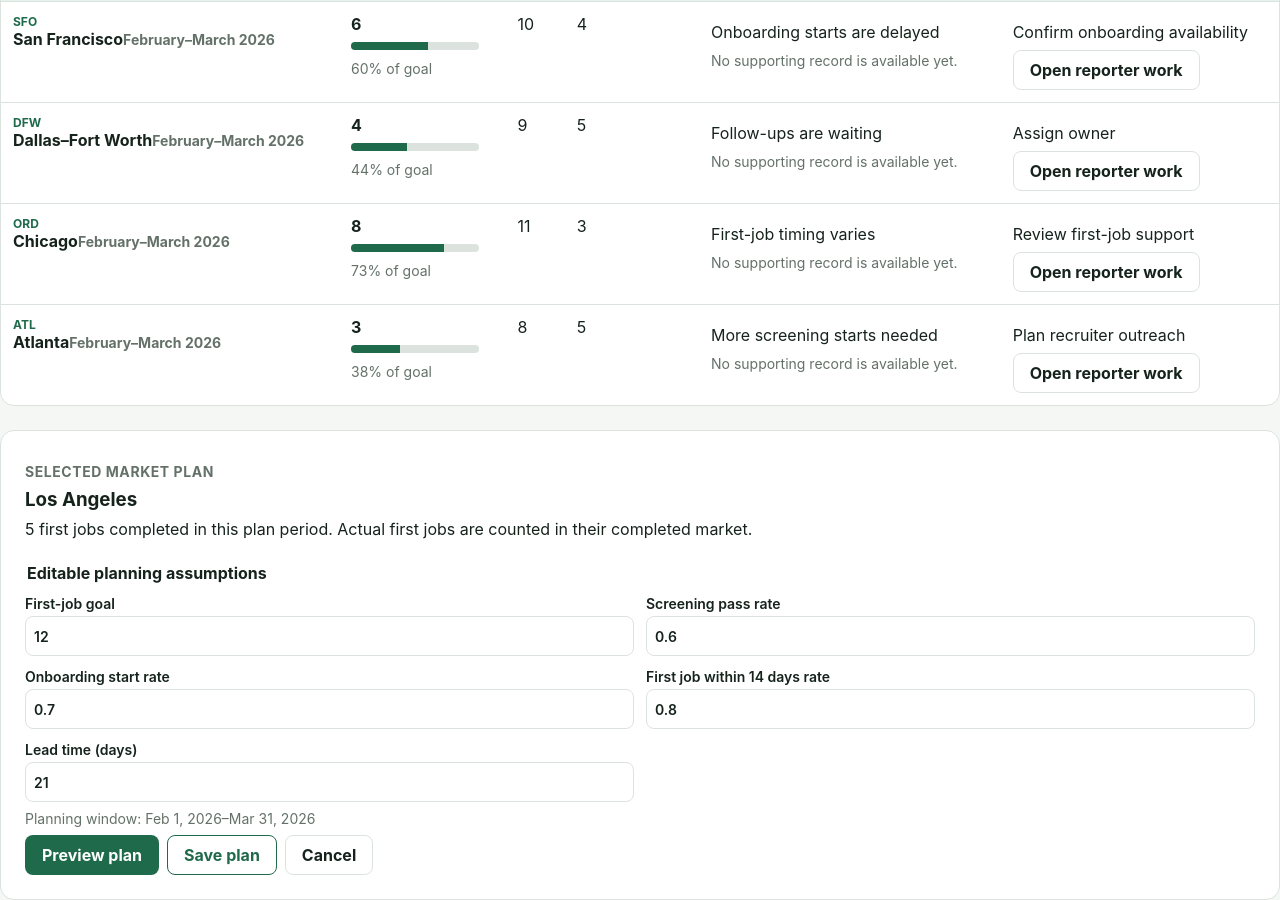
MarketsScreen › shows rejected saves as an error with the returned validation message
(page scrolled)
Click the button "Save plan" at (222, 855), box [167,835,277,875]
(page scrolled)
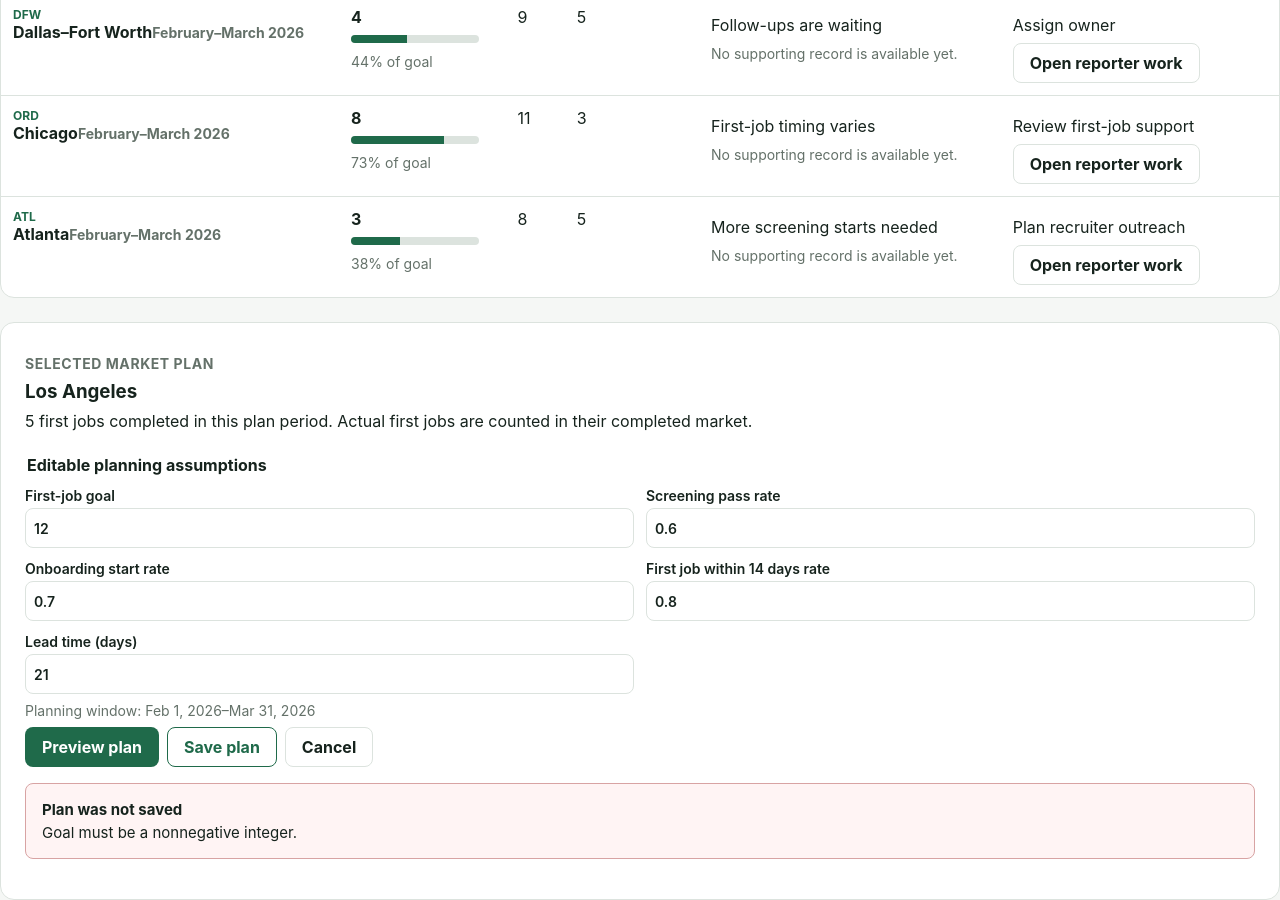
Now the text "Goal must be a nonnegative integer." is shown, box [42,823,297,842]
Now the element with class "ui-notice--danger" shows "Plan was not saved", box [42,800,182,819]
